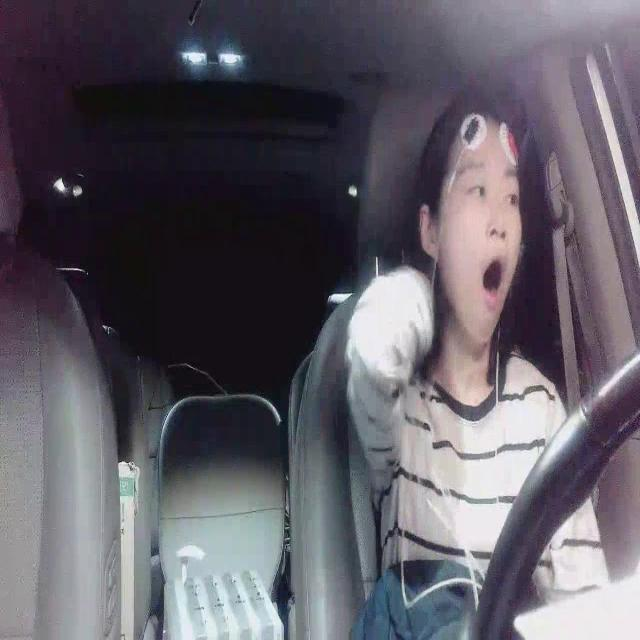Yawning: (479, 247, 504, 303)
